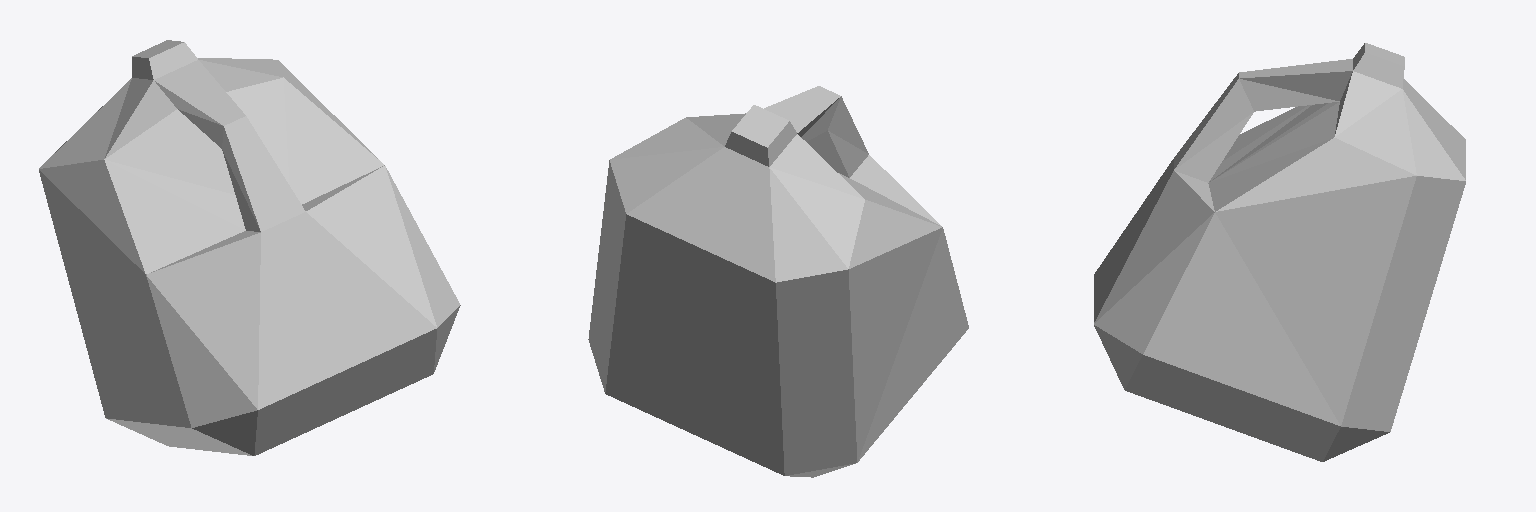
Rendered from pissjug1.obj.
3 renders of one model, left to right at view 1: azimuth 30°, elevation 25°; view 2: azimuth 150°, elevation 25°; view 3: azimuth 270°, elevation 25°, orthographic.
Visible parts, largest first — view 1: jugapis2; view 2: jugapis2; view 3: jugapis2.
Part boxes in pixels (bbox=[...]): jugapis2: bbox=[39, 40, 460, 455]; jugapis2: bbox=[588, 86, 968, 477]; jugapis2: bbox=[1094, 43, 1465, 461].
Bounding box in the file's own units: 16.28 × 19.81 × 17.64.